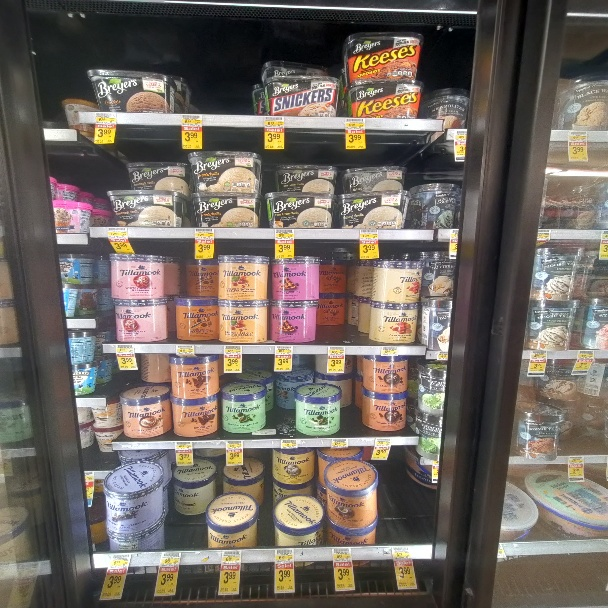All PRICE TAGS: (180, 114, 202, 126), (109, 554, 130, 566), (390, 547, 412, 558), (95, 113, 115, 124), (264, 116, 284, 127), (274, 549, 293, 560), (222, 551, 241, 562), (345, 118, 364, 129), (569, 131, 586, 143), (194, 228, 214, 238), (332, 548, 350, 559), (162, 552, 180, 563), (106, 228, 128, 237), (359, 230, 377, 240), (275, 230, 294, 239), (280, 439, 298, 448), (177, 345, 194, 354), (226, 440, 243, 449), (115, 345, 134, 353), (332, 438, 348, 447), (275, 346, 293, 354), (224, 346, 241, 354), (328, 346, 345, 354), (381, 346, 398, 354), (176, 441, 193, 449), (578, 350, 593, 359), (531, 351, 546, 360), (375, 438, 391, 445), (569, 456, 583, 464), (539, 230, 550, 240), (455, 130, 465, 141), (438, 352, 447, 360), (452, 230, 458, 238)
